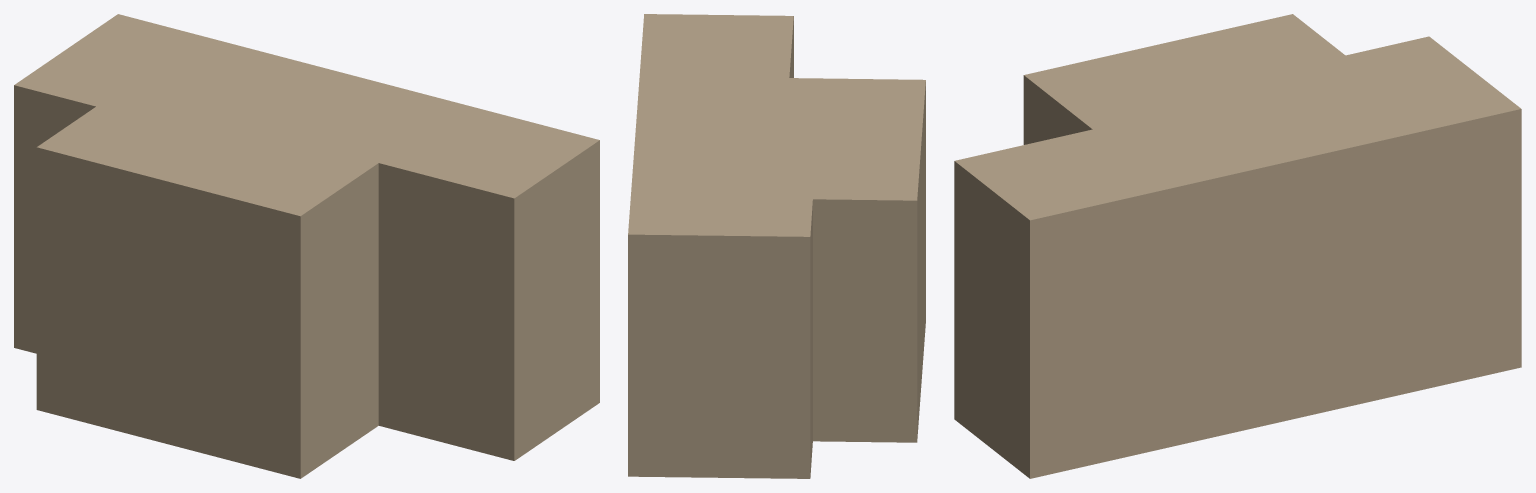
File: bld_106455951.dae
3 renders of one model, left to right at view 1: azimuth 30°, elevation 25°; view 2: azimuth 150°, elevation 25°; view 3: azimuth 270°, elevation 25°, orthographic. The views are drawn at different scales.
Parts seen in each view (by area): view 1: bld_106455951; view 2: bld_106455951; view 3: bld_106455951.
Part boxes in pixels (<box>): bld_106455951: <box>14,14,599,478</box>; bld_106455951: <box>628,14,925,478</box>; bld_106455951: <box>954,14,1521,478</box>.
Size of the model in its own units: 13.7 by 15.9 by 8.
